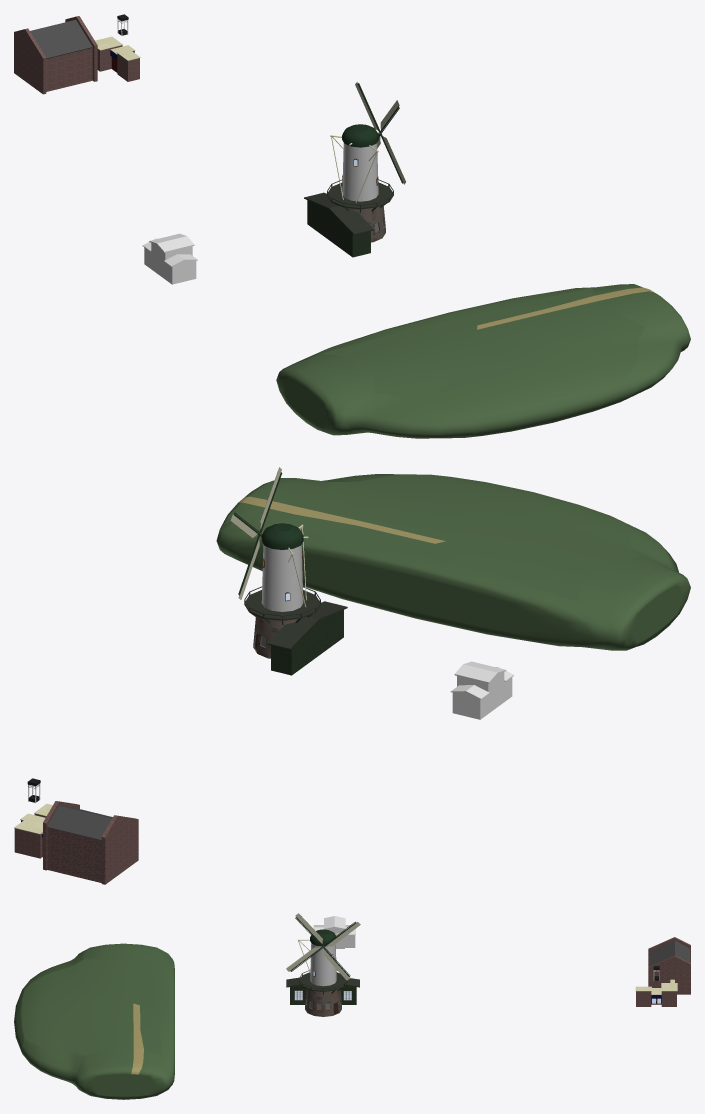
File: molens (1).fbx
3 renders of one model, top to bottom at view 1: azimuth 30°, elevation 25°; view 2: azimuth 150°, elevation 25°; view 3: azimuth 270°, elevation 25°, orthographic. The views are drawn at different scales.
Visible parts, largest first — view 1: Cube.013, Cube.025, Cylinder.002, Cube.009, Cube.023, Cube, Cylinder.001, Cube.010, Cube.005, Cube.014; view 2: Cube.013, Cube.025, Cylinder.002, Cube.009, Cube.023, Cube, Cube.010, Cylinder.001, Cube.005, Cube.015, Cylinder, Cube.003; view 3: Cube.013, Cube.024, Cylinder.002, Cube.005, Cylinder, Cube.025, Cylinder.001, Cube.009, Cube.015, Cube.014, Cube.
Part boxes in pixels (<box>): Cube.013: <box>276,284,690,438</box>; Cube.025: <box>30,20,92,91</box>; Cylinder.002: <box>342,124,378,201</box>; Cube.009: <box>307,200,370,257</box>; Cube.023: <box>14,28,46,94</box>; Cube: <box>144,243,196,284</box>; Cylinder.001: <box>327,179,393,209</box>; Cube.010: <box>304,192,374,235</box>; Cube.005: <box>355,82,405,184</box>; Cube.014: <box>116,49,140,81</box>; Cube.013: <box>216,474,690,650</box>; Cube.025: <box>47,805,112,882</box>; Cylinder.002: <box>261,523,303,611</box>; Cube.009: <box>271,610,343,675</box>; Cube.023: <box>101,815,138,884</box>; Cube: <box>452,672,512,719</box>; Cube.010: <box>267,601,347,649</box>; Cylinder.001: <box>244,586,320,620</box>; Cube.005: <box>230,467,282,599</box>; Cube.015: <box>14,818,42,858</box>; Cylinder: <box>253,616,297,658</box>; Cube.003: <box>454,661,506,683</box>; Cube.013: <box>14,943,174,1099</box>; Cube.024: <box>648,955,690,994</box>; Cylinder.002: <box>310,929,336,986</box>; Cube.005: <box>286,913,360,980</box>; Cylinder: <box>305,989,341,1016</box>; Cube.025: <box>650,940,690,965</box>; Cylinder.001: <box>299,970,347,991</box>; Cube.009: <box>290,985,356,1004</box>; Cube.015: <box>661,983,677,1006</box>; Cube.014: <box>635,986,651,1006</box>; Cube: <box>325,927,355,948</box>.
Size of the model in its own units: 11905 by 5977 by 26418.
